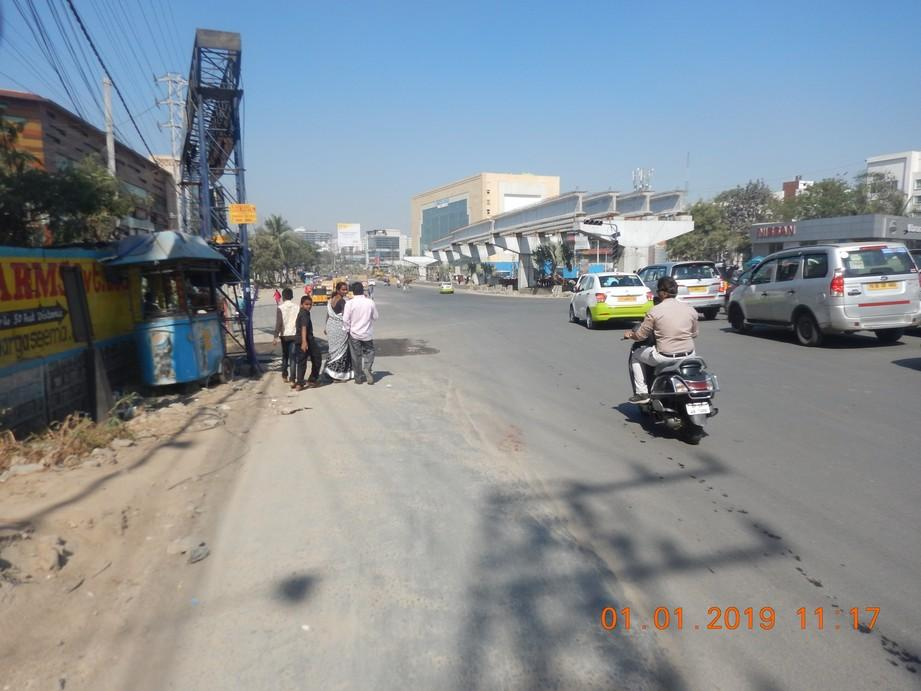plate: (687, 400, 710, 416)
